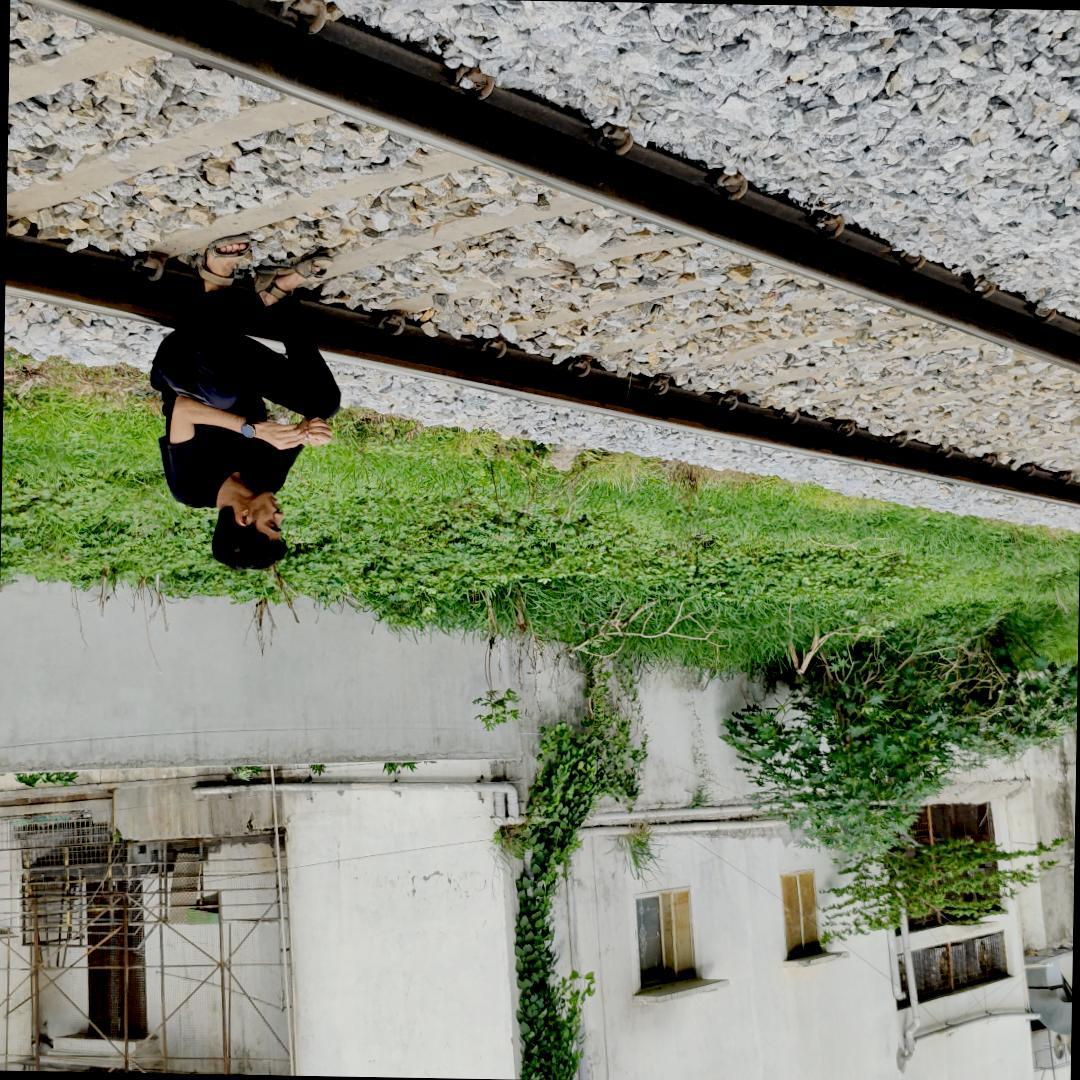sitting: (144, 235, 339, 575)
